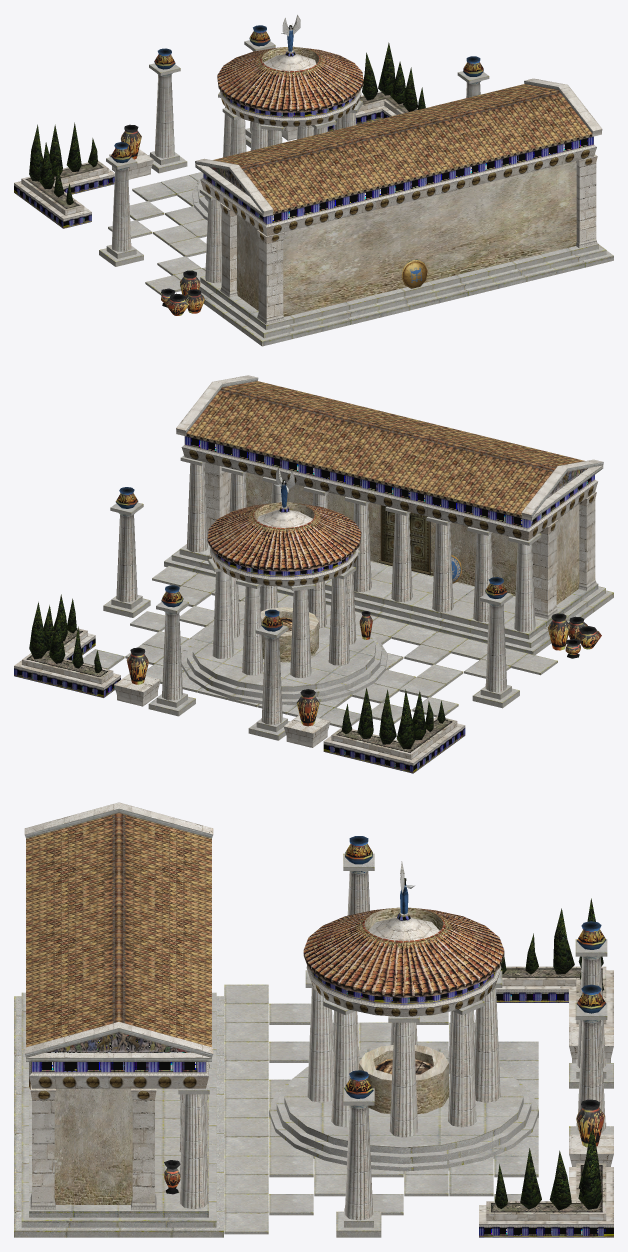
File: town_center.glb
3 views of the same model, one above another, from view 1: azimuth 30°, elevation 25°; view 2: azimuth 150°, elevation 25°; view 3: azimuth 270°, elevation 25° (orthographic). The views are drawn at different scales.
Visible parts, largest first — view 1: town_center_part0, town_center_part2, town_center_part1, town_center_part4, town_center_part3, town_center_part5; view 2: town_center_part0, town_center_part2, town_center_part1, town_center_part4, town_center_part3; view 3: town_center_part0, town_center_part2, town_center_part1, town_center_part4, town_center_part3.
Part boxes in pixels (<box>): town_center_part0: <box>14,46,602,324</box>; town_center_part2: <box>99,40,613,346</box>; town_center_part1: <box>22,15,483,315</box>; town_center_part4: <box>217,47,363,112</box>; town_center_part3: <box>29,42,425,204</box>; town_center_part5: <box>401,259,427,288</box>; town_center_part0: <box>14,375,603,773</box>; town_center_part2: <box>83,455,613,740</box>; town_center_part1: <box>22,463,601,754</box>; town_center_part4: <box>207,502,361,571</box>; town_center_part3: <box>29,594,445,749</box>; town_center_part0: <box>24,802,613,1237</box>; town_center_part2: <box>14,853,613,1237</box>; town_center_part1: <box>164,836,606,1220</box>; town_center_part4: <box>303,908,504,997</box>; town_center_part3: <box>495,898,603,1210</box>.
Size of the model in its own units: 6.2 by 2.79 by 6.01.
Materials: 6 (6 with a texture image).
